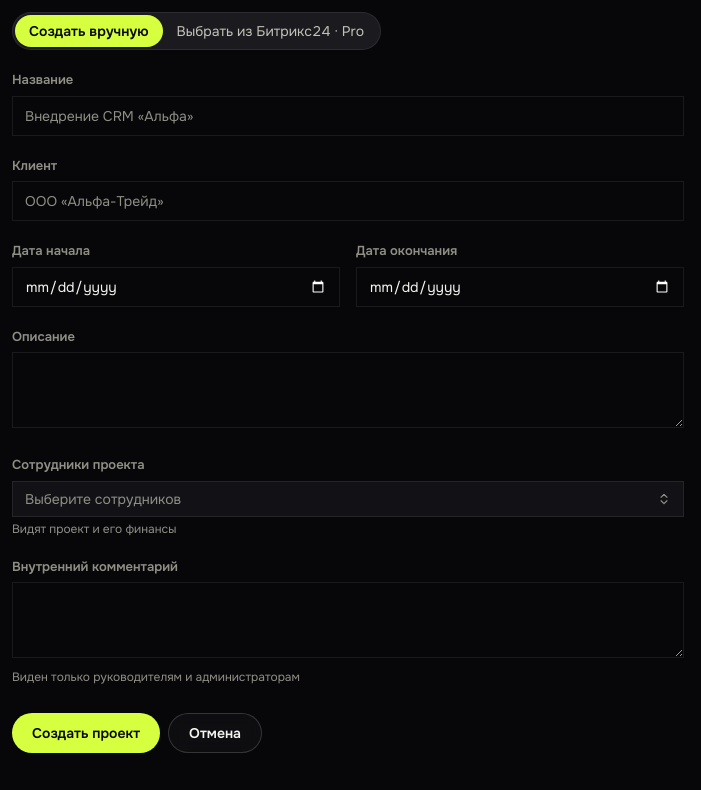
ProjectForm › shows a validation error when the name is empty
Click the button "Создать проект": point(86, 733) [12,713,160,753]
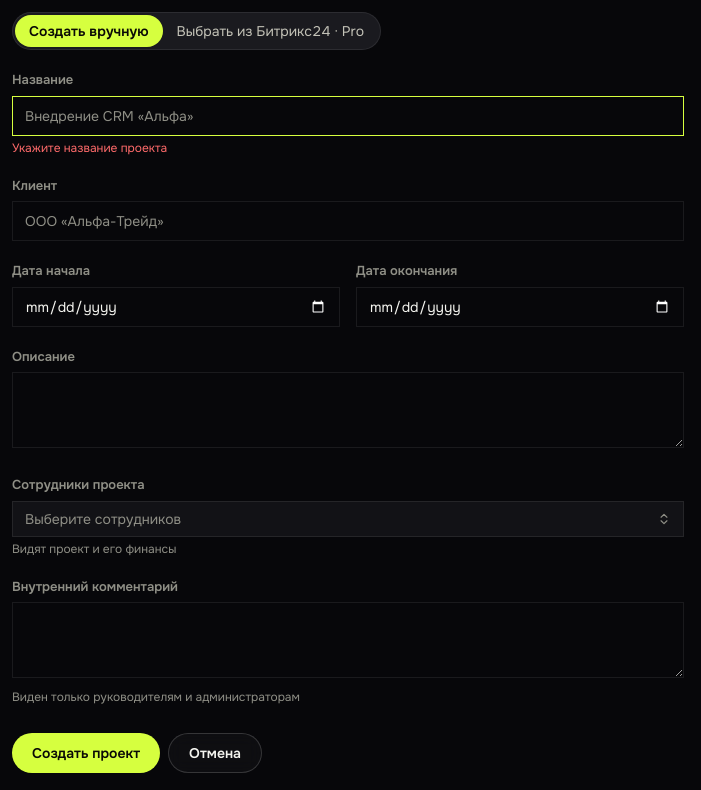
Expected: the text "Укажите название проекта" is shown, [12,140,167,156]
